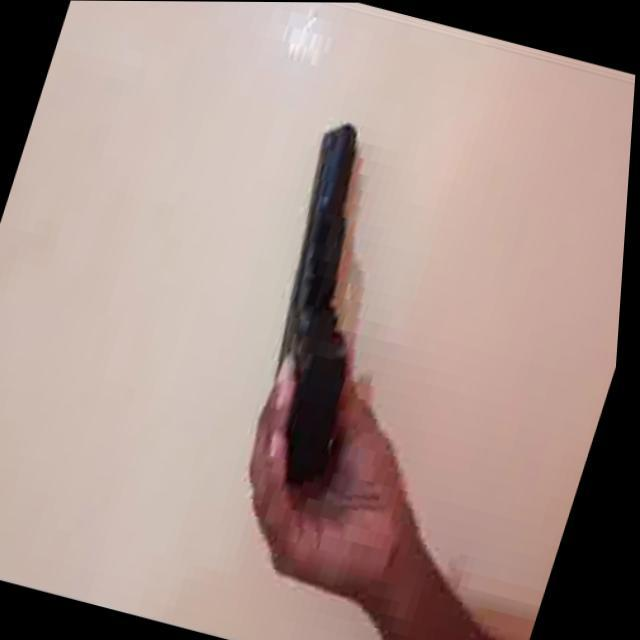weapon: (222, 114, 432, 496)
